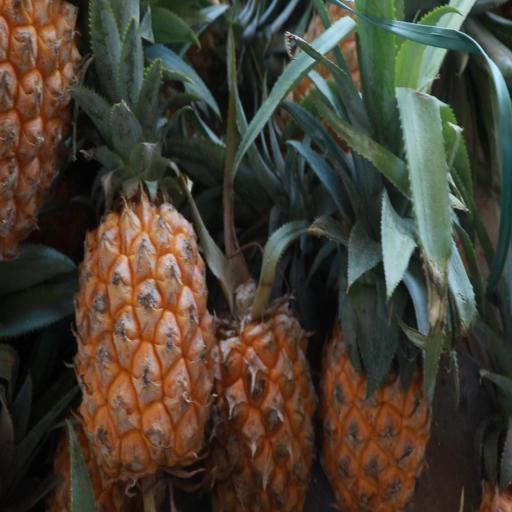Pineapple - v8 v1: (70, 121, 220, 482), (317, 187, 439, 512), (205, 251, 325, 511)
